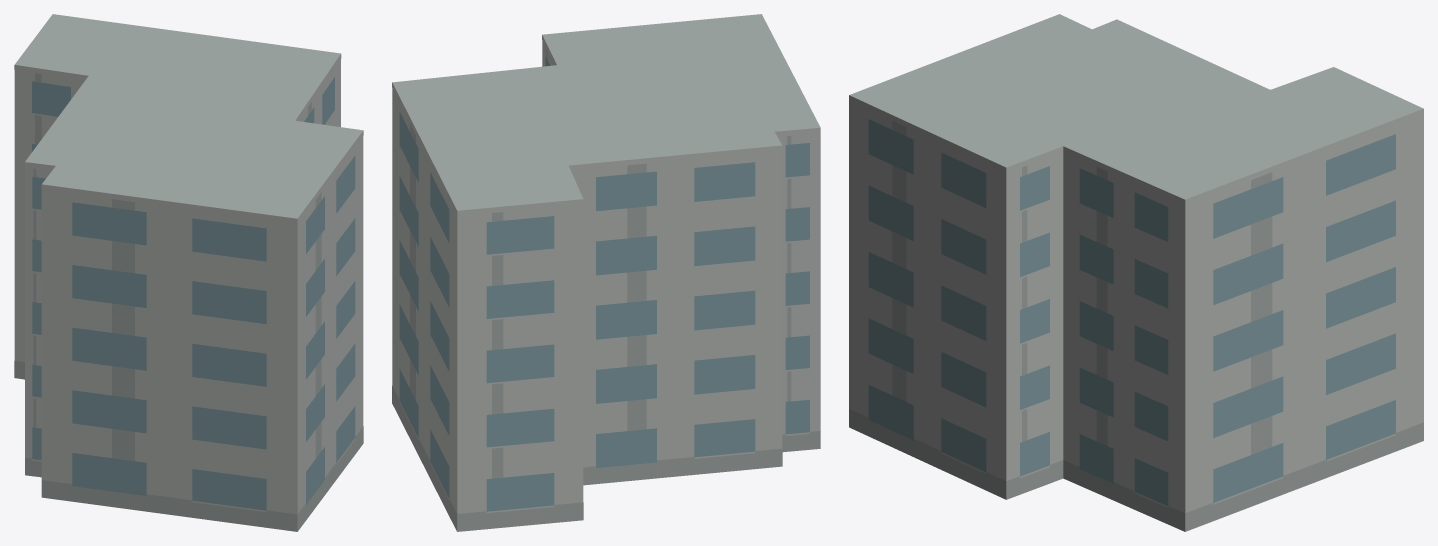
The model's file is survey-upis-32710076.glb.
The picture shows the model from 3 angles, left to right: view 1: azimuth 30°, elevation 25°; view 2: azimuth 150°, elevation 25°; view 3: azimuth 270°, elevation 25°; orthographic projection. The views are drawn at different scales.
Parts seen in each view (by area): view 1: survey-upis-32710076.tmp; view 2: survey-upis-32710076.tmp; view 3: survey-upis-32710076.tmp.
Part boxes in pixels (x1,y1,x2,y2): survey-upis-32710076.tmp: [14, 14, 363, 531]; survey-upis-32710076.tmp: [392, 14, 820, 531]; survey-upis-32710076.tmp: [849, 14, 1423, 531].
Bounding box in the file's own units: 17.15 × 14.3 × 22.43.
